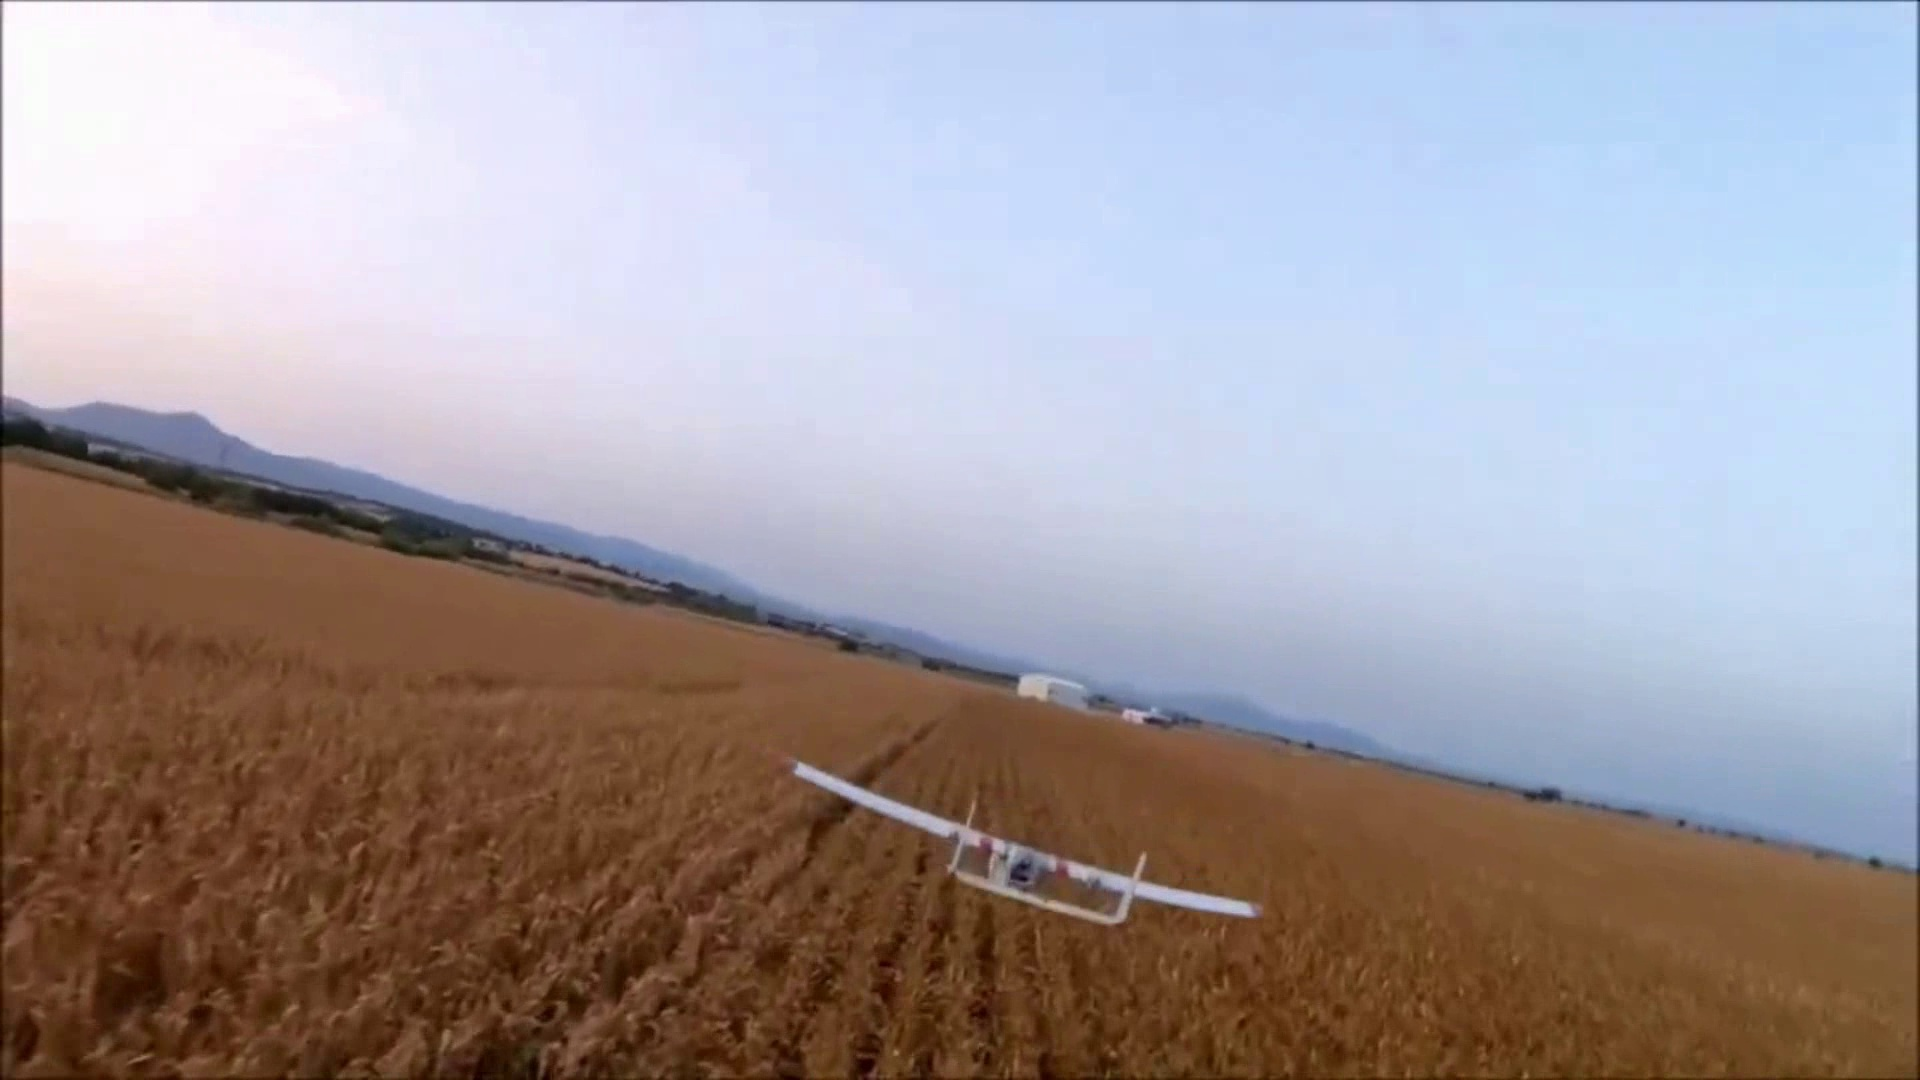airplane: (789, 760, 1262, 931)
